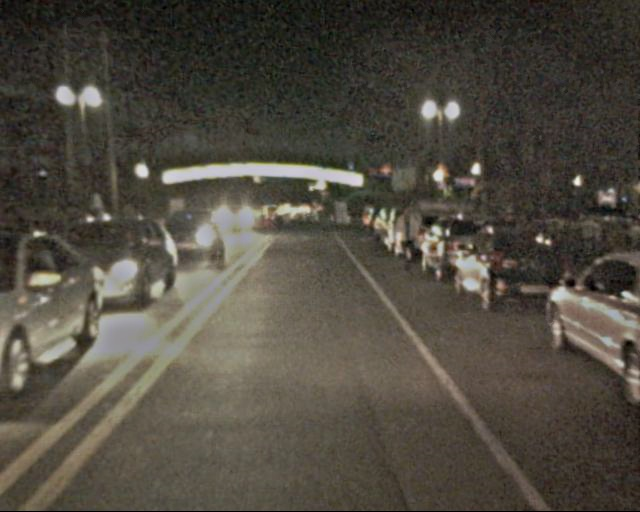person: (391, 204, 422, 279)
